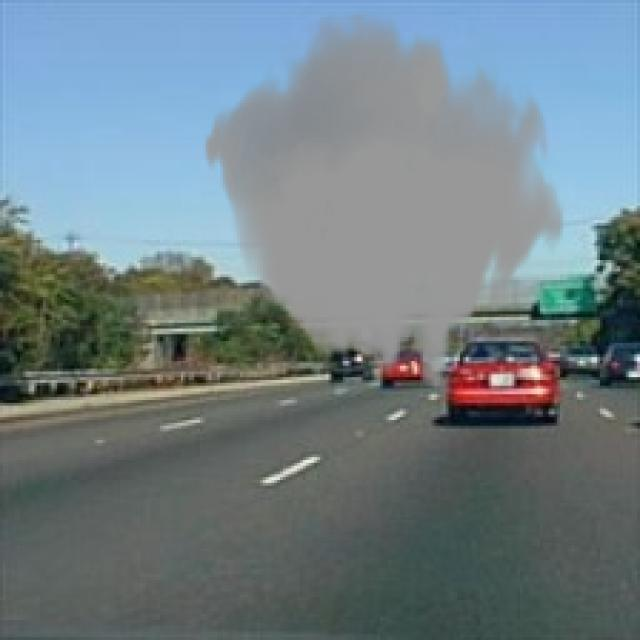smoke: (203, 14, 566, 386)
